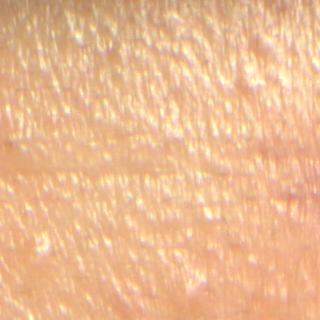Pores: (159, 192, 178, 208), (275, 0, 291, 15), (286, 185, 300, 200), (201, 284, 216, 295), (183, 231, 192, 247), (147, 289, 158, 302), (313, 86, 320, 99), (316, 111, 320, 128)
